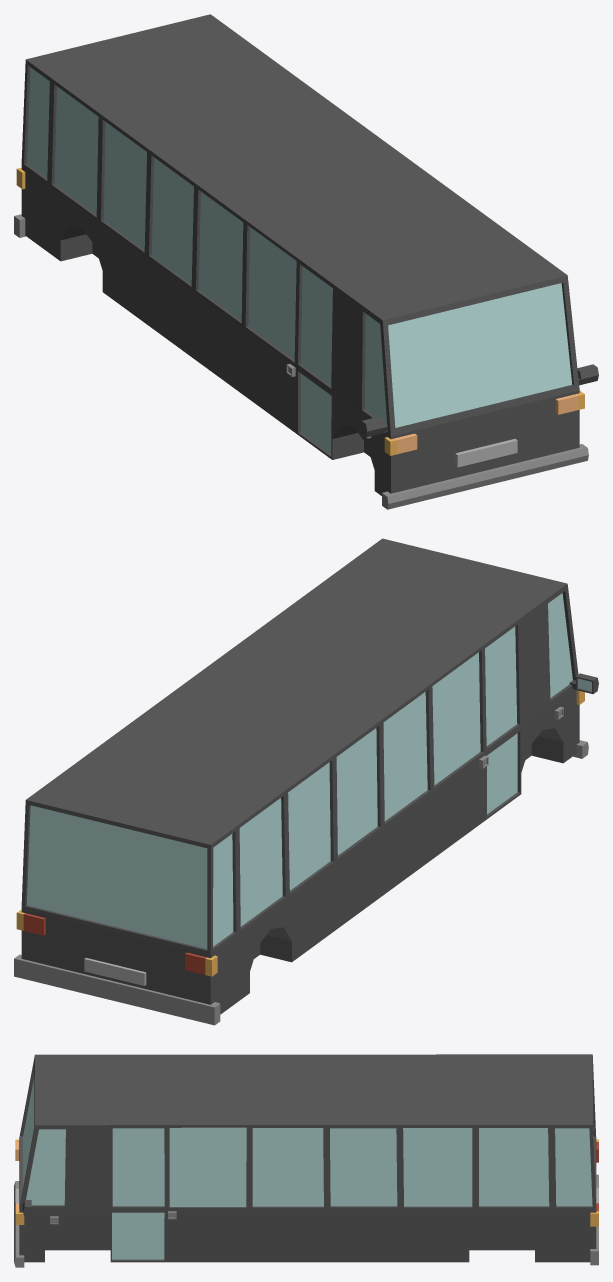
Rendered from Car_13.fbx.
The picture shows the model from 3 angles, top to bottom: view 1: azimuth 30°, elevation 25°; view 2: azimuth 150°, elevation 25°; view 3: azimuth 270°, elevation 25°; orthographic projection. The views are drawn at different scales.
Parts seen in each view (by area): view 1: Car_13; view 2: Car_13; view 3: Car_13.
Part boxes in pixels (x1,y1,x2,y2): Car_13: (14, 14, 598, 509); Car_13: (14, 538, 598, 1025); Car_13: (14, 1054, 598, 1267).
Bounding box in the file's own units: 236 × 174 × 661.
